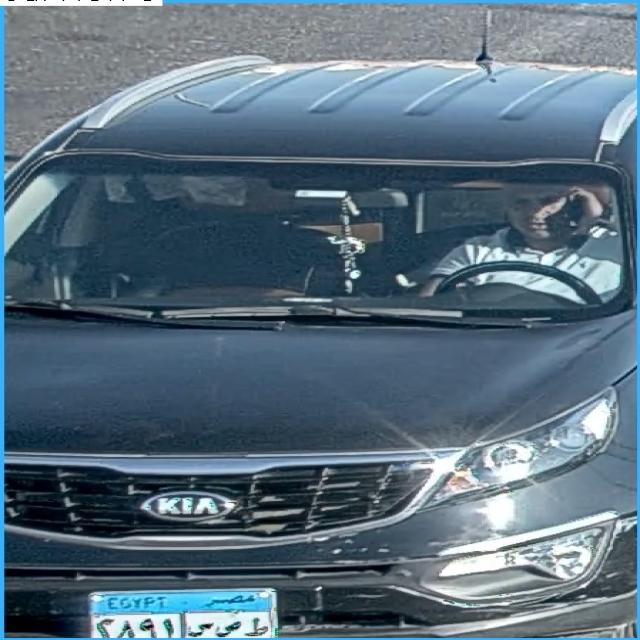windshield: (13, 154, 627, 324)
